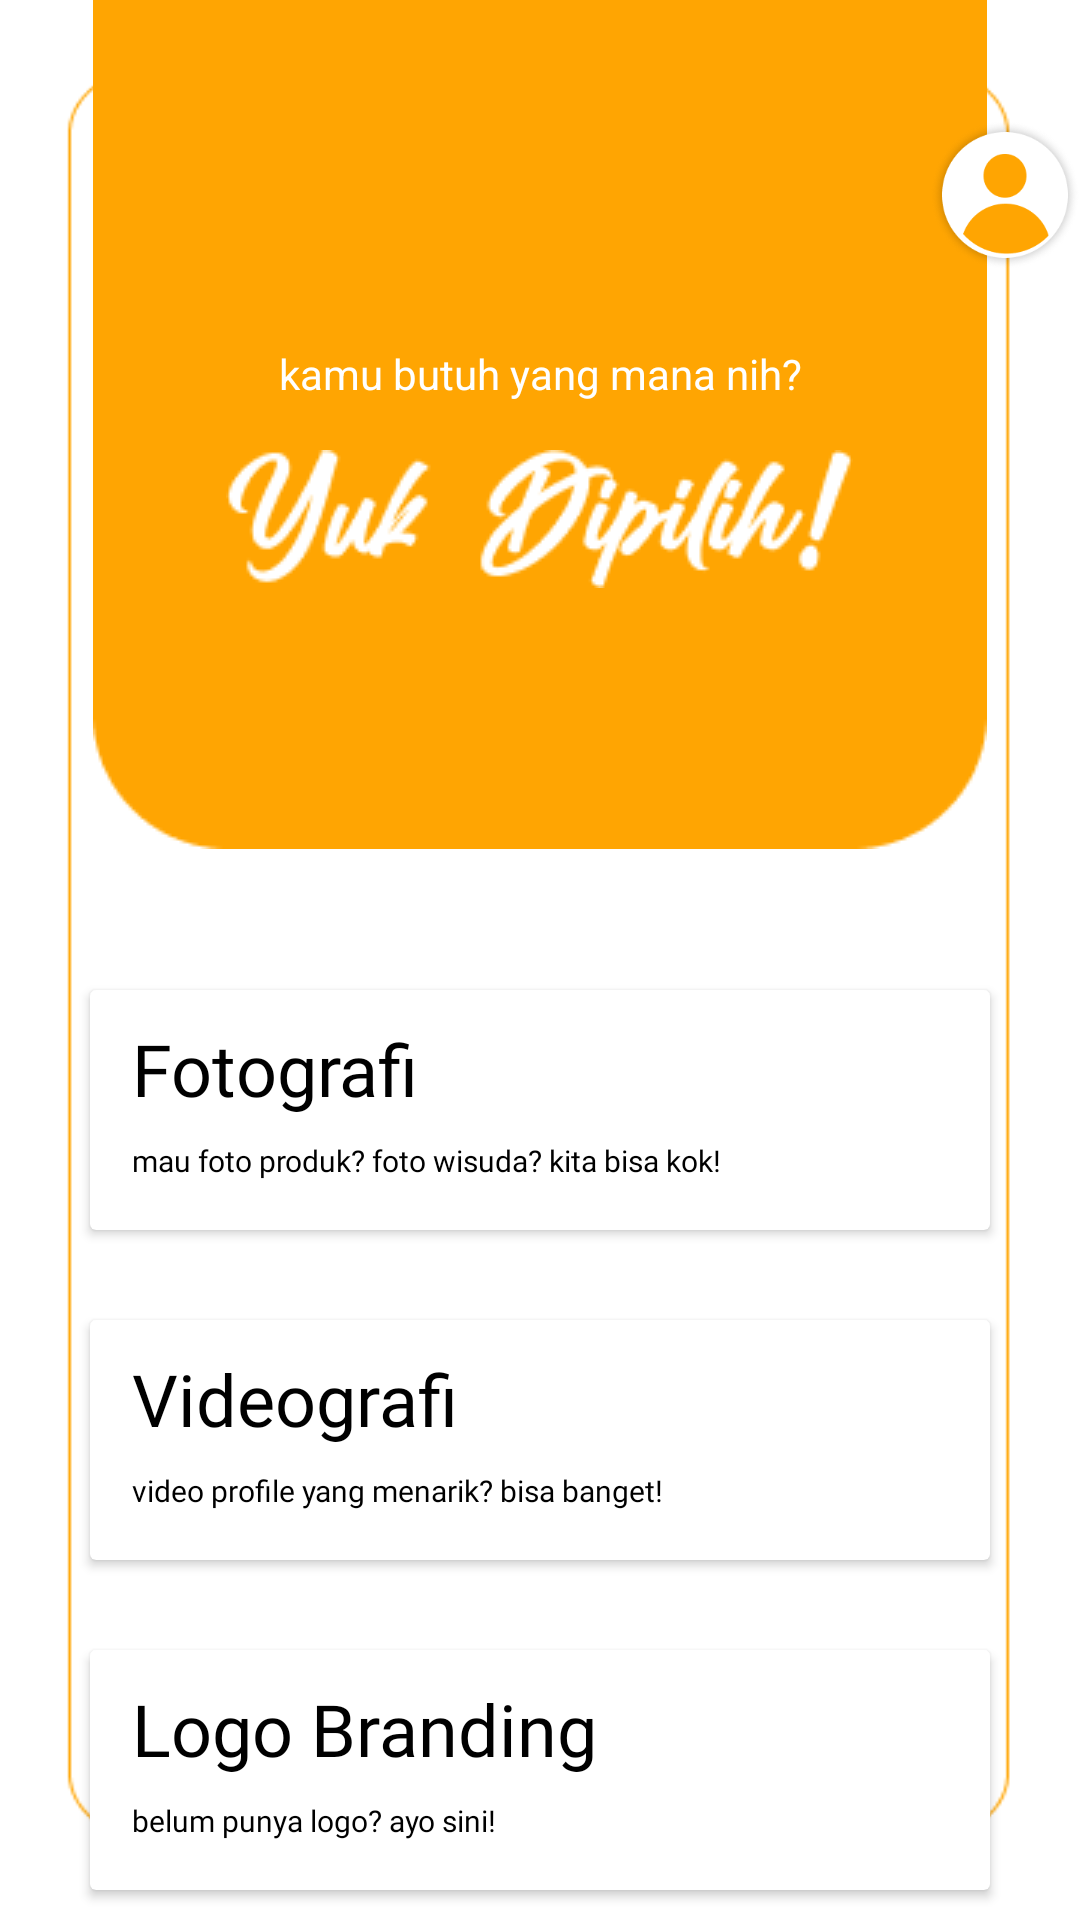

Named icons in this screenshot (1080px x 1920px) and their bounding boxes, (x1, y1, x2, y2):
account: (940, 90, 1080, 300)
